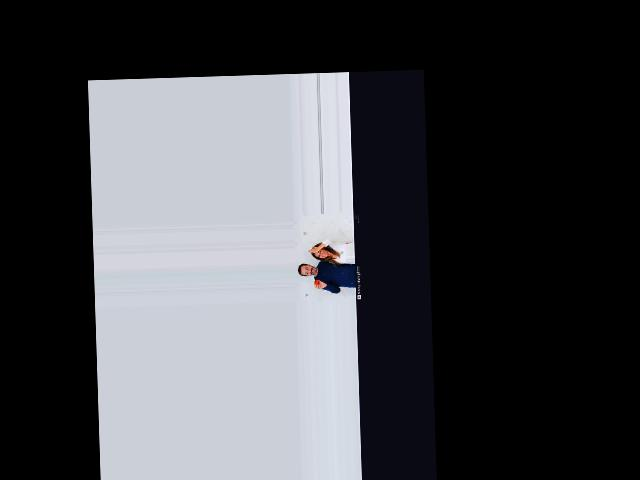tomato: (314, 279, 319, 284)
